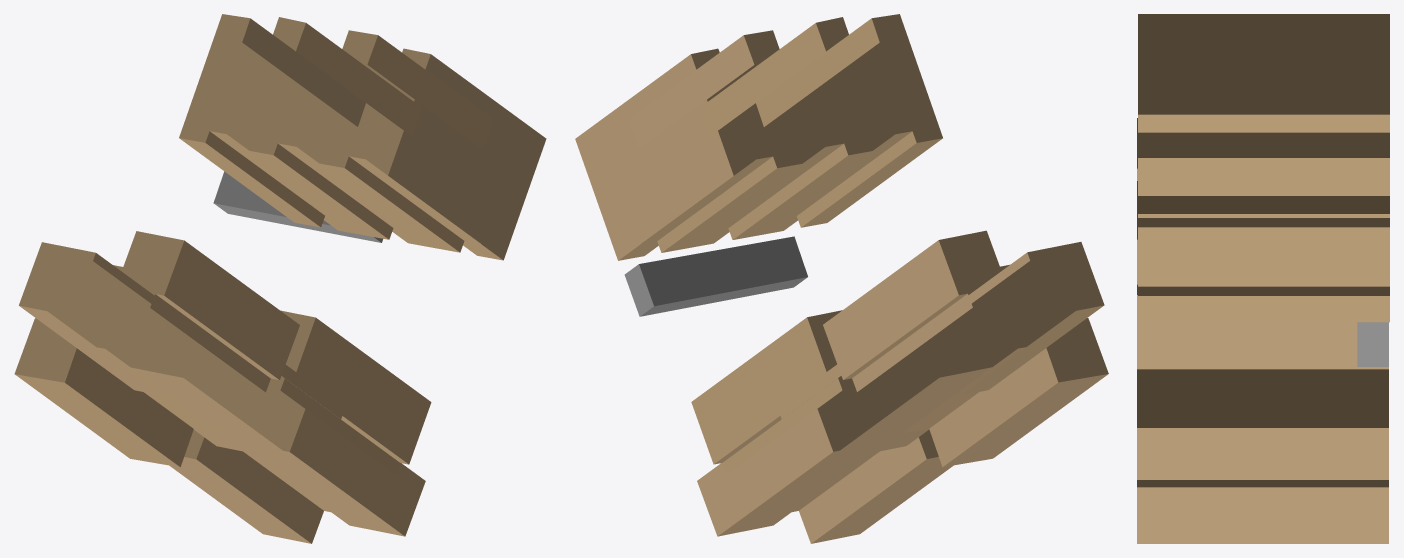
The picture shows the model from 3 angles, left to right: view 1: azimuth 30°, elevation 25°; view 2: azimuth 150°, elevation 25°; view 3: azimuth 270°, elevation 25°; orthographic projection. The views are drawn at different scales.
Parts seen in each view (by area): view 1: 0_0_3_1_3_2_1_0; view 2: 0_0_3_1_3_2_1_0; view 3: 0_0_3_1_3_2_1_0.
Boxes of the visible parts, x1,y1,x2,y2 form: 0_0_3_1_3_2_1_0: (14,14,546,543); 0_0_3_1_3_2_1_0: (575,14,1108,543); 0_0_3_1_3_2_1_0: (1137,14,1389,543).
Size of the model in its own units: 49.94 by 51.97 by 24.1.
